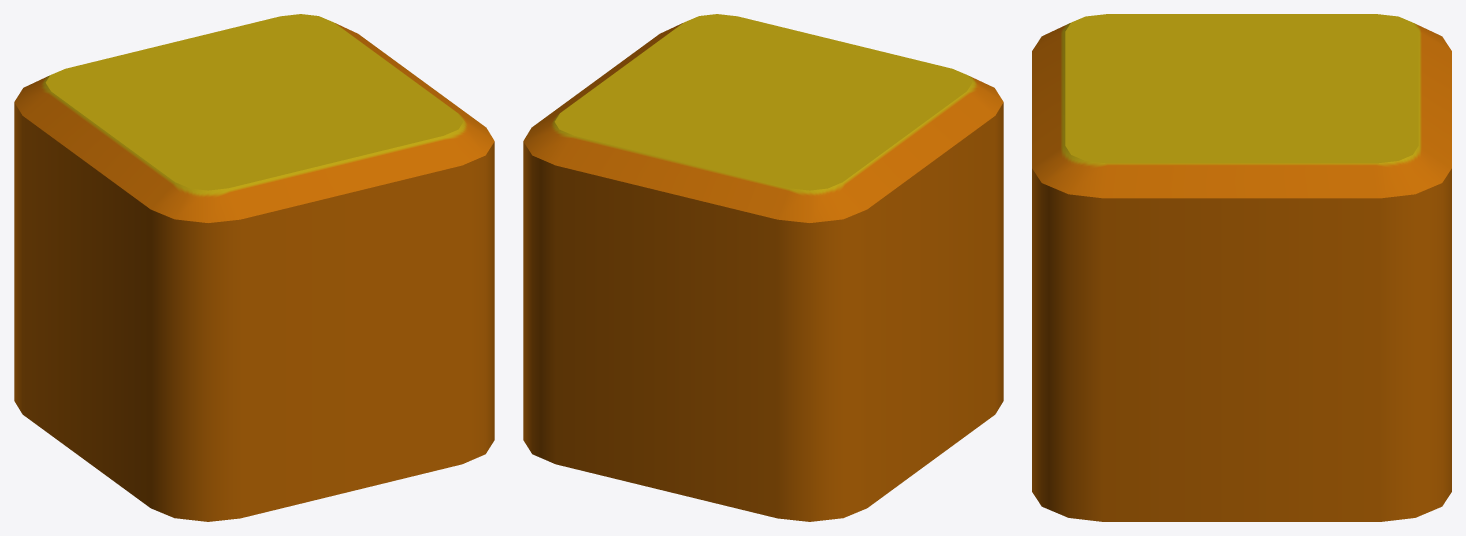
The model's file is cube_Blue.fbx.
The picture shows the model from 3 angles, left to right: view 1: azimuth 30°, elevation 25°; view 2: azimuth 150°, elevation 25°; view 3: azimuth 270°, elevation 25°; orthographic projection. The views are drawn at different scales.
Visible parts, largest first — view 1: cube_Blue; view 2: cube_Blue; view 3: cube_Blue.
Boxes of the visible parts, x1,y1,x2,y2 form: cube_Blue: (14,14,494,521); cube_Blue: (523,14,1003,521); cube_Blue: (1032,14,1451,521).
Bounding box in the file's own units: 100 × 90.58 × 100.
